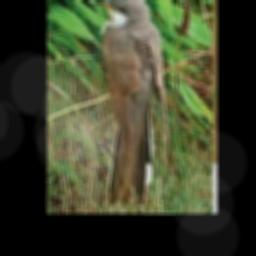Cuckoo: (93, 0, 164, 202)
